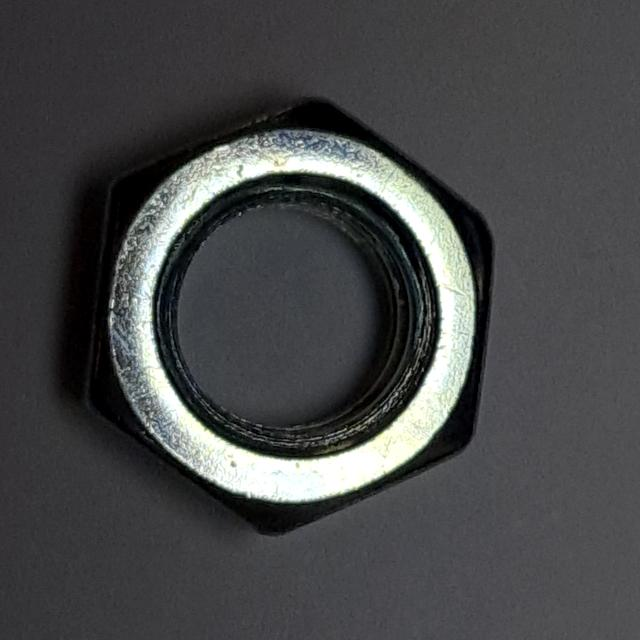Excellent: (70, 73, 516, 555)
